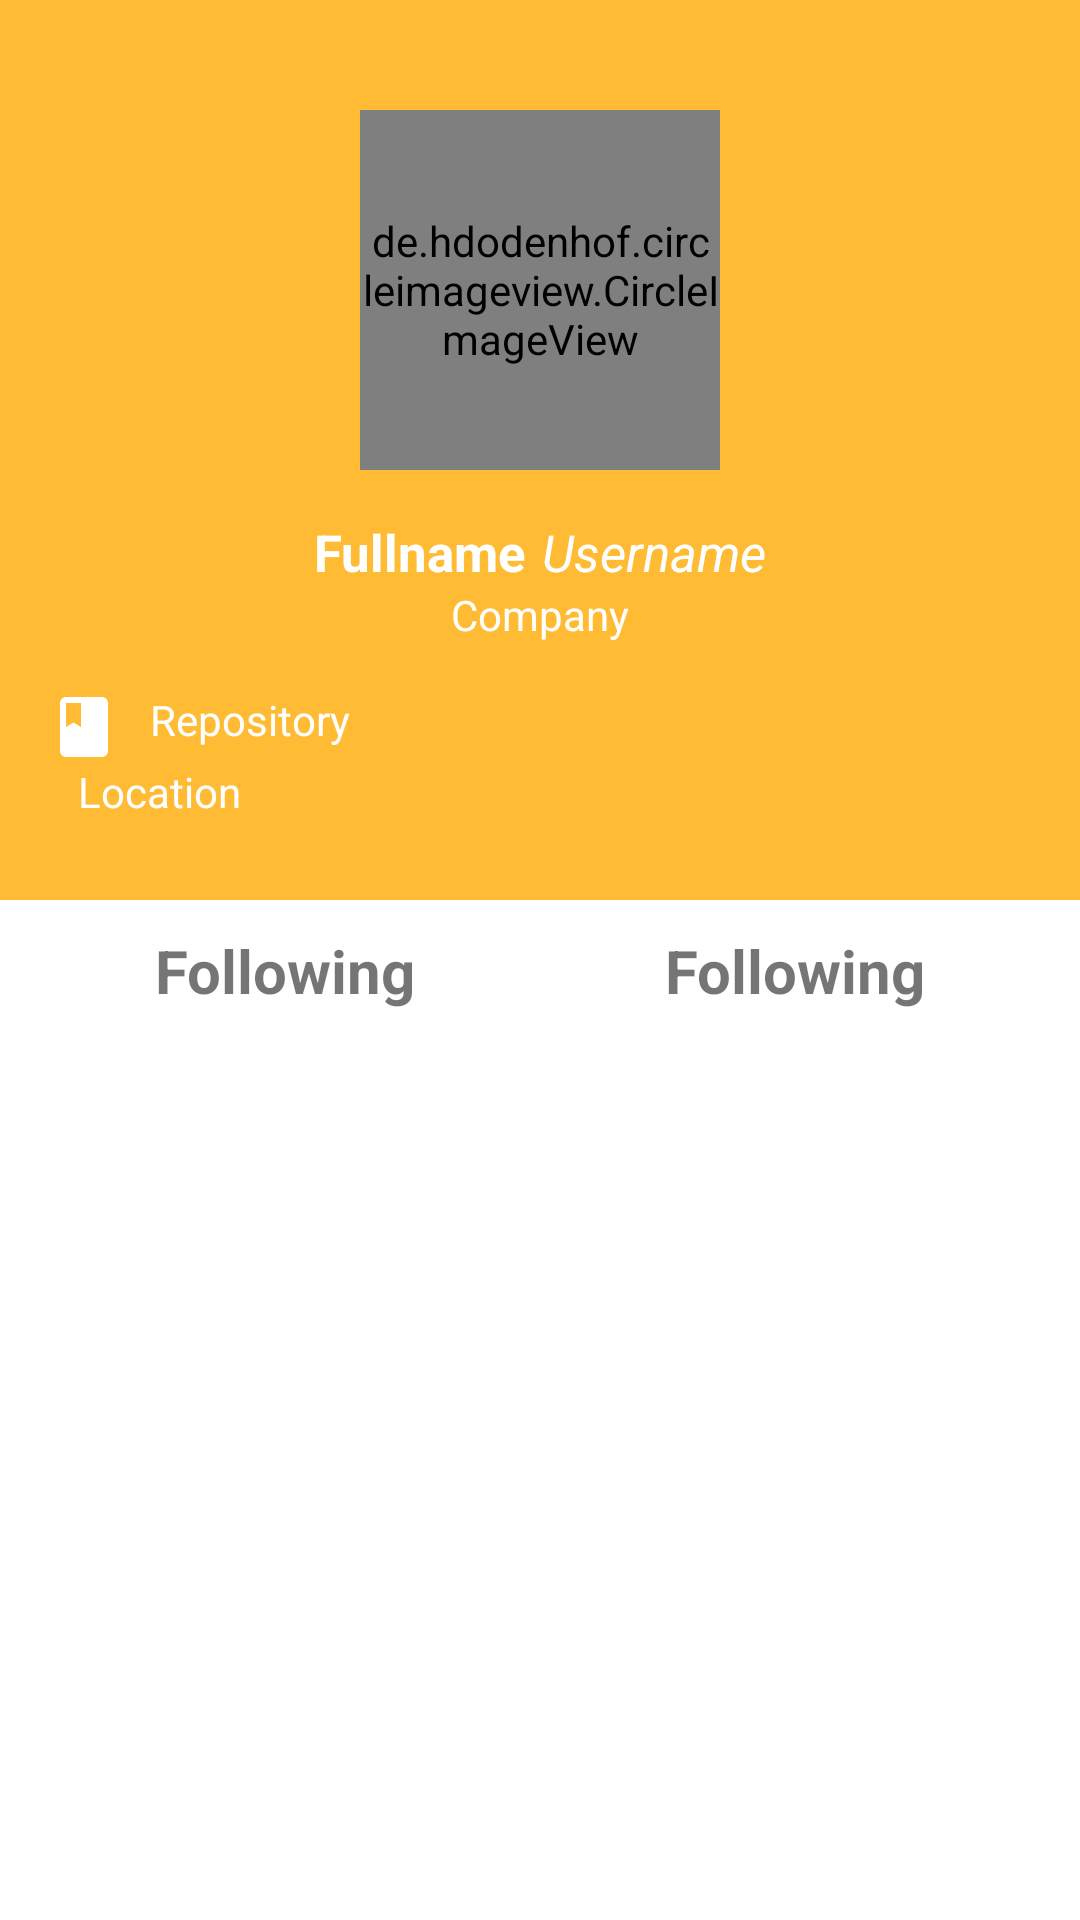

Locate icon controls on the screen. Image size 1080*1920, boxes as (x1, y1, x2, y2).
book: (60, 697, 108, 757)
